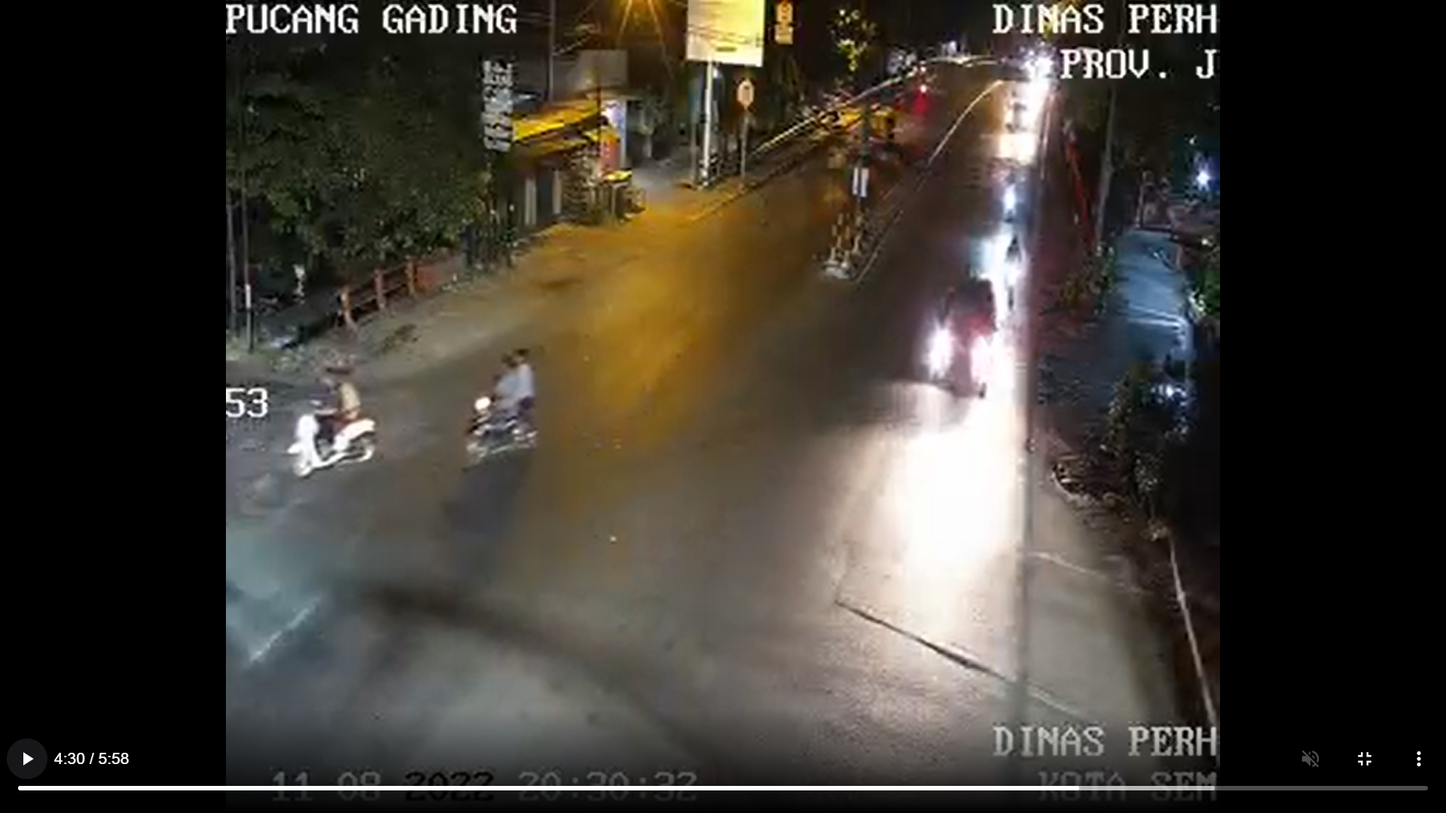without_helmet: (455, 343, 563, 475), (278, 357, 383, 487)
